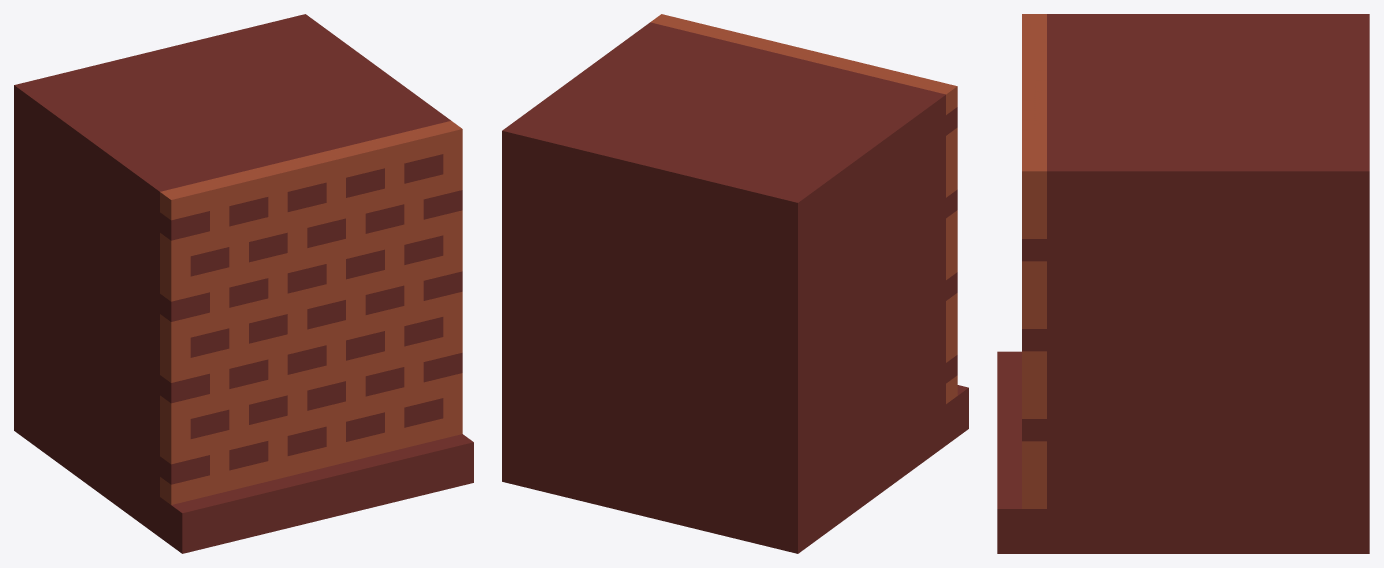
Rendered from dungeon_b_b_outer_wall_segment_a_flipped.obj.
3 views of the same model, side by side, from view 1: azimuth 30°, elevation 25°; view 2: azimuth 150°, elevation 25°; view 3: azimuth 270°, elevation 25° (orthographic). The views are drawn at different scales.
Size of the model in its own units: 1.5 by 1.7 by 1.5.
Materials: 1 (1 with a texture image).
